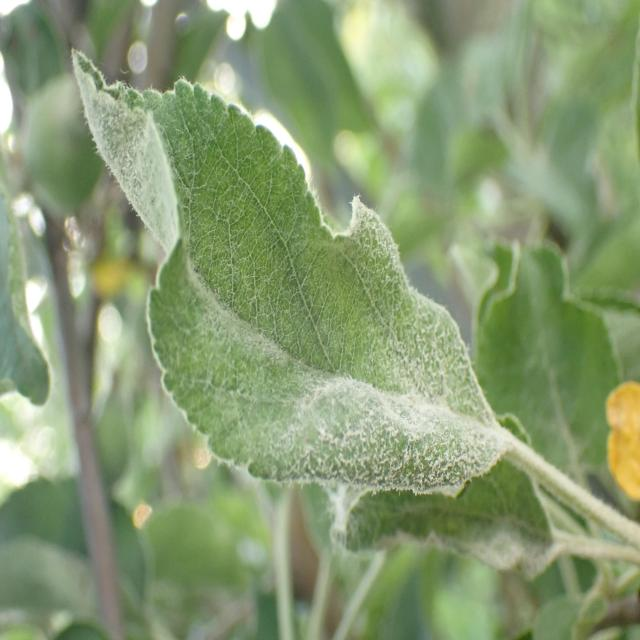Powdery_mildew: (63, 36, 511, 497), (336, 414, 580, 592)
